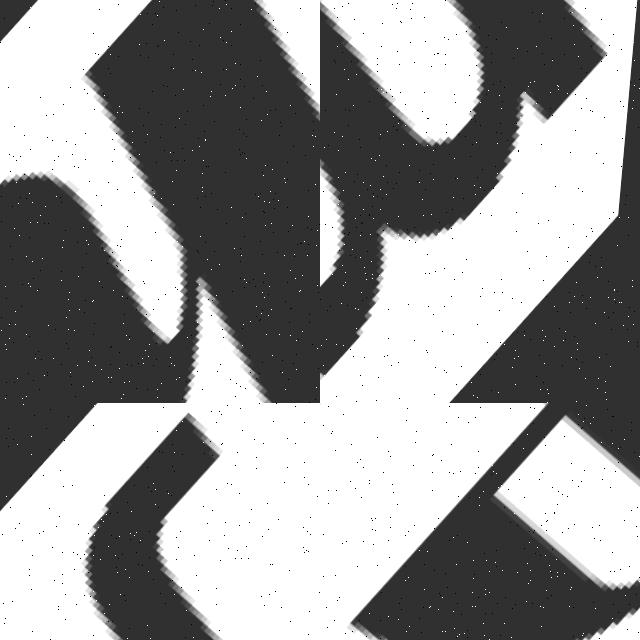E: (360, 403, 640, 640)
H: (0, 0, 320, 403)
J: (0, 403, 320, 640)
M: (320, 0, 640, 403)
